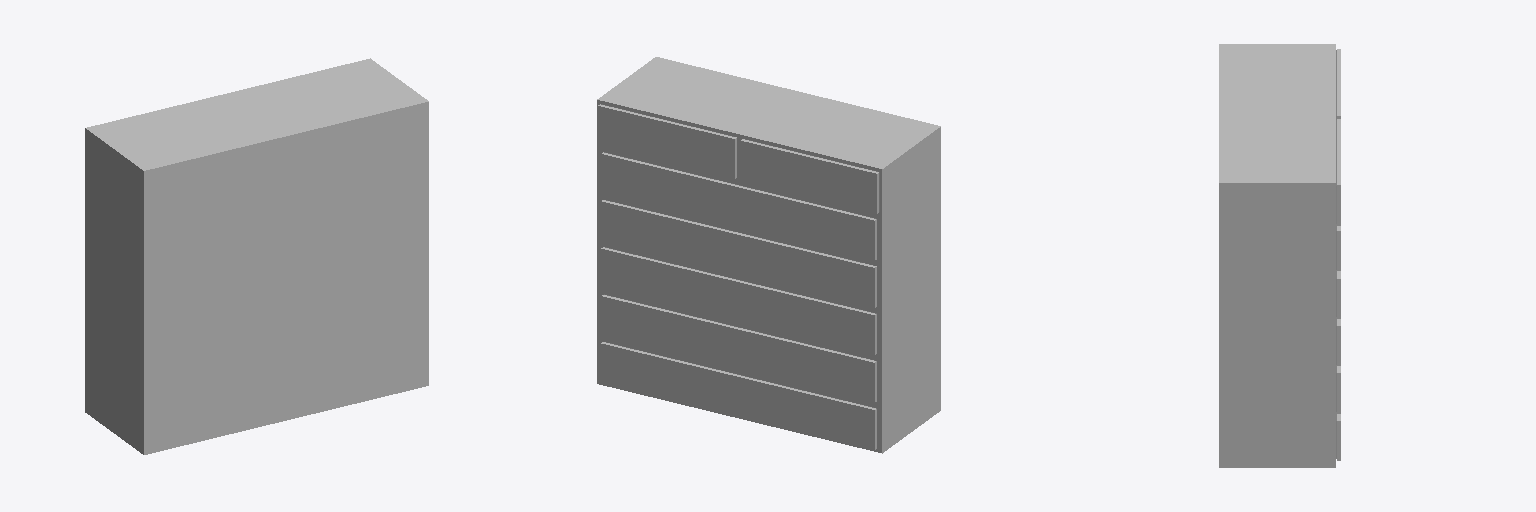
Rendered from N_chest.obj.
3 renders of one model, left to right at view 1: azimuth 30°, elevation 25°; view 2: azimuth 150°, elevation 25°; view 3: azimuth 270°, elevation 25°, orthographic.
Visible parts, largest first — view 1: Cube; view 2: Cube; view 3: Cube.
Boxes of the visible parts, <box> form: Cube: <box>85,58,428,454</box>; Cube: <box>597,57,940,453</box>; Cube: <box>1219,44,1340,467</box>.
Bounding box in the file's own units: 7.56 × 7.2 × 2.81.